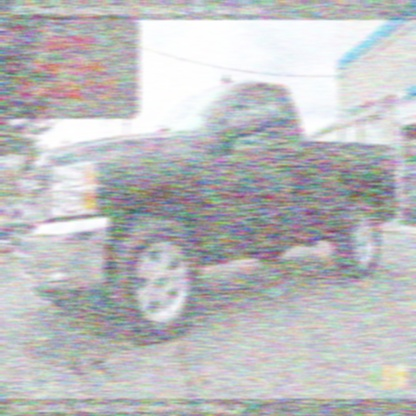Vehicle: (11, 75, 400, 344)
